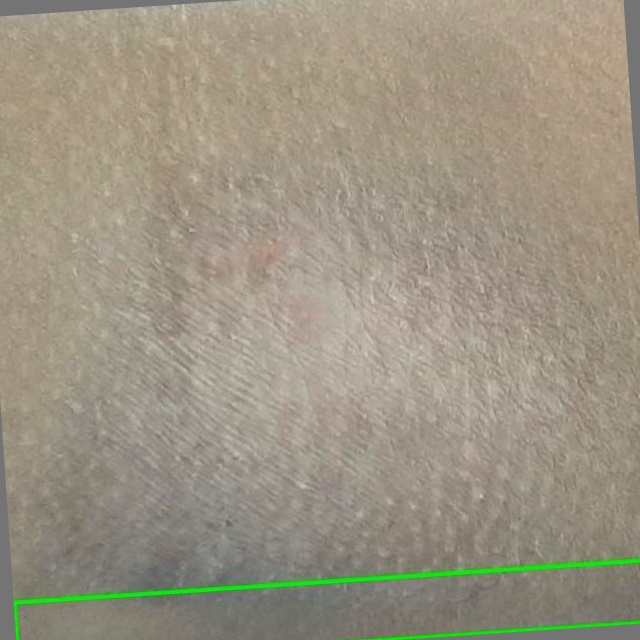Atopic Dermatitis: (14, 560, 639, 639)
